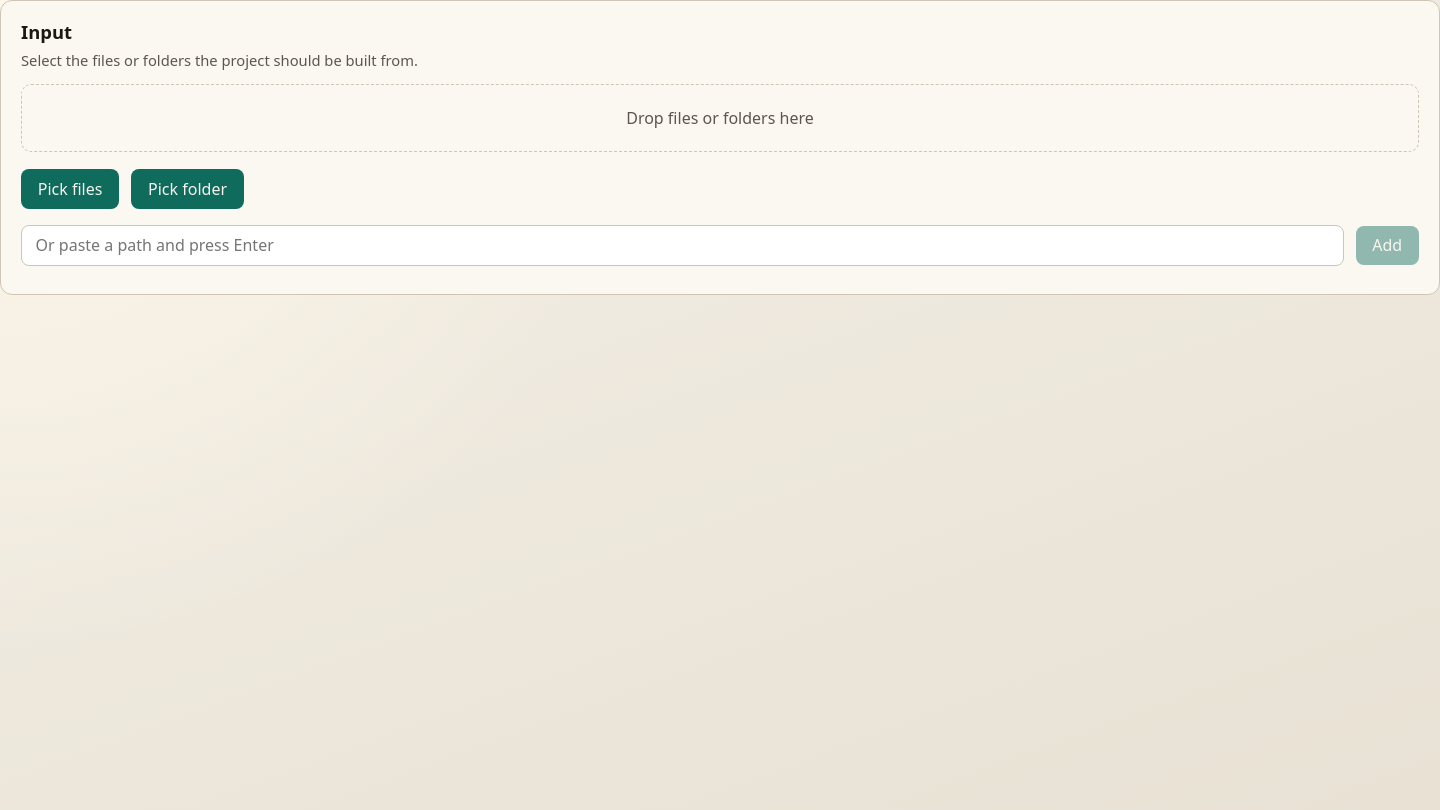
IntakePanel › shows blockers for over-limit preflight and hides trust
This screenshot has width=1440, height=810.
Type "C:\\fixture\\over-limit" into the field with test id "intake-path-input" at (682, 245), box 21,224 -> 1344,266
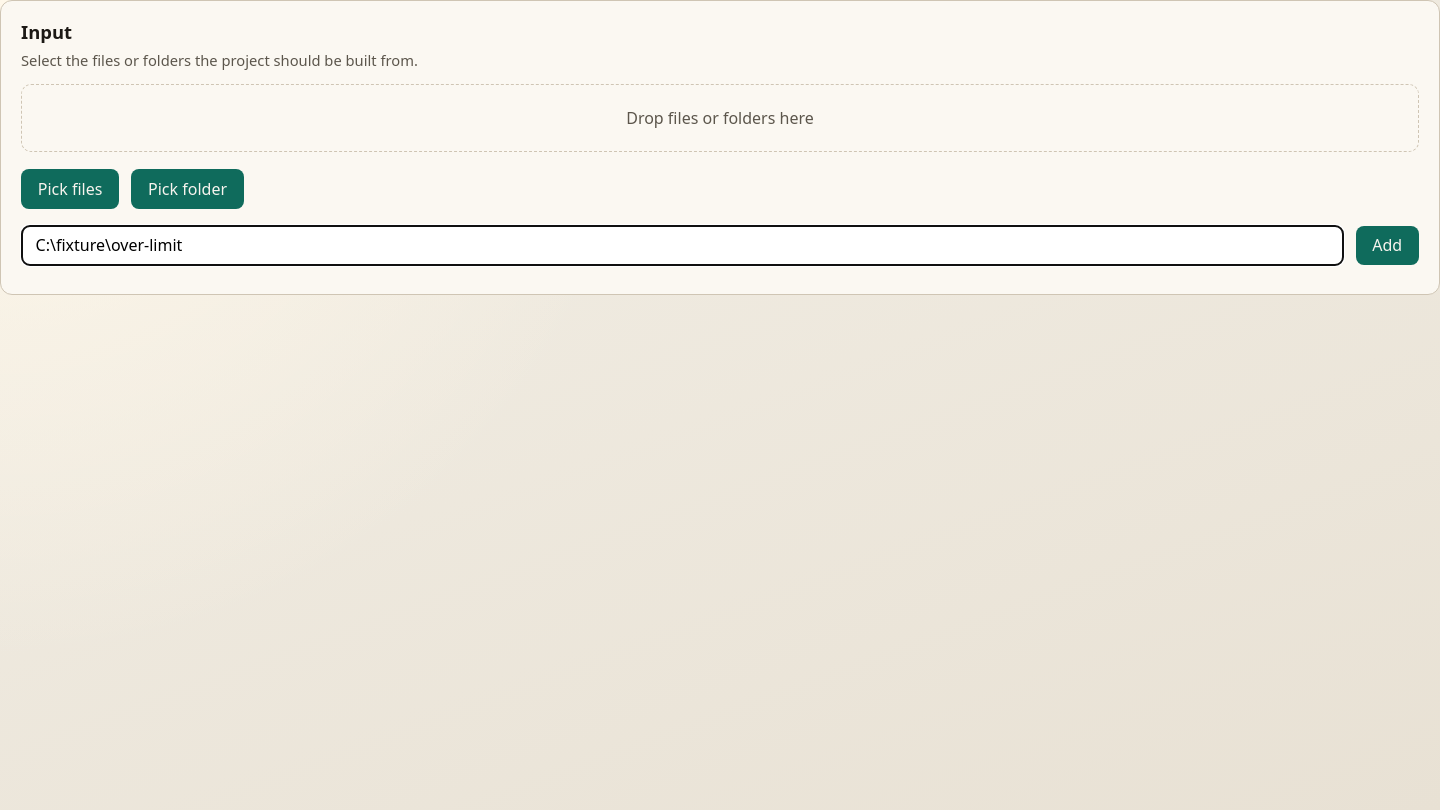
Click the button "Add" at (1387, 245), box 1356,226 -> 1419,265
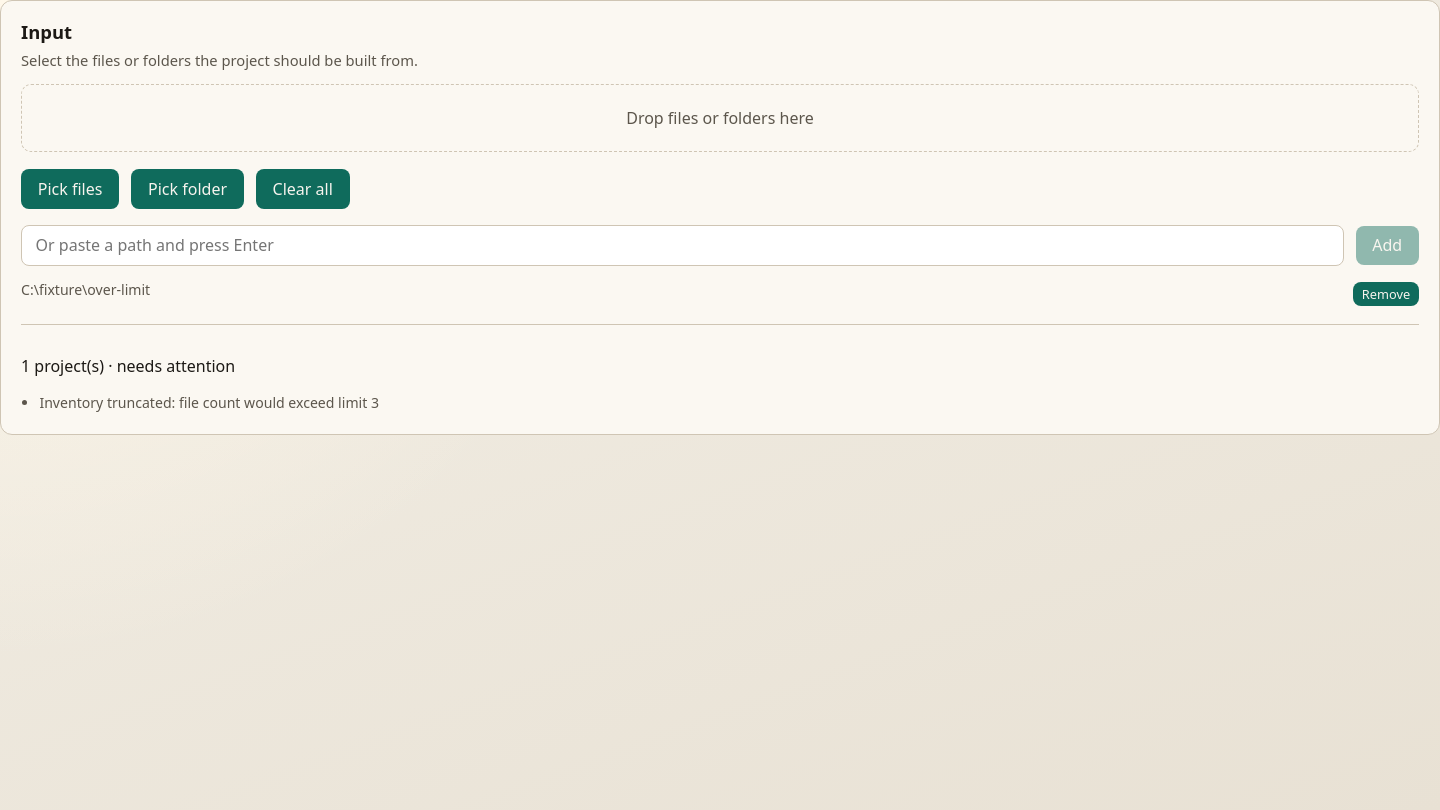
Expected: the element with test id "preflight-summary" is shown, 21,324 -> 1419,412
Expected: the list item "Inventory truncated: file count would exceed limit 3" is shown, 39,393 -> 379,412
